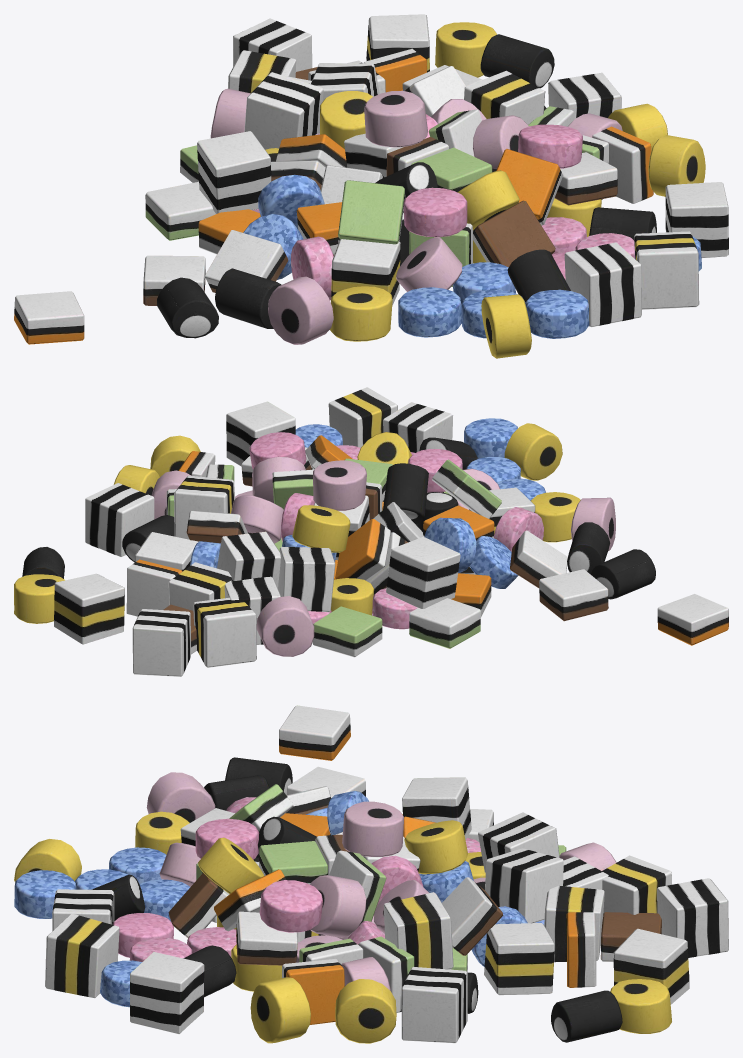
Rendered from allsorts.glb.
3 renders of one model, top to bottom at view 1: azimuth 30°, elevation 25°; view 2: azimuth 150°, elevation 25°; view 3: azimuth 270°, elevation 25°, orthographic. The views are drawn at different scales.
Visible parts, largest first — view 1: Sweets-material; view 2: Sweets-material; view 3: Sweets-material.
Part boxes in pixels (left/top/right/bottom): Sweets-material: left=14, top=14, right=728, bottom=358; Sweets-material: left=14, top=387, right=728, bottom=676; Sweets-material: left=14, top=705, right=728, bottom=1043.
Bounding box in the file's own units: 0.2624 × 0.0438 × 0.2481.
1 material, 1 textured.
